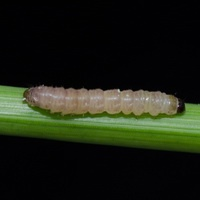insect: (24, 86, 183, 115)
